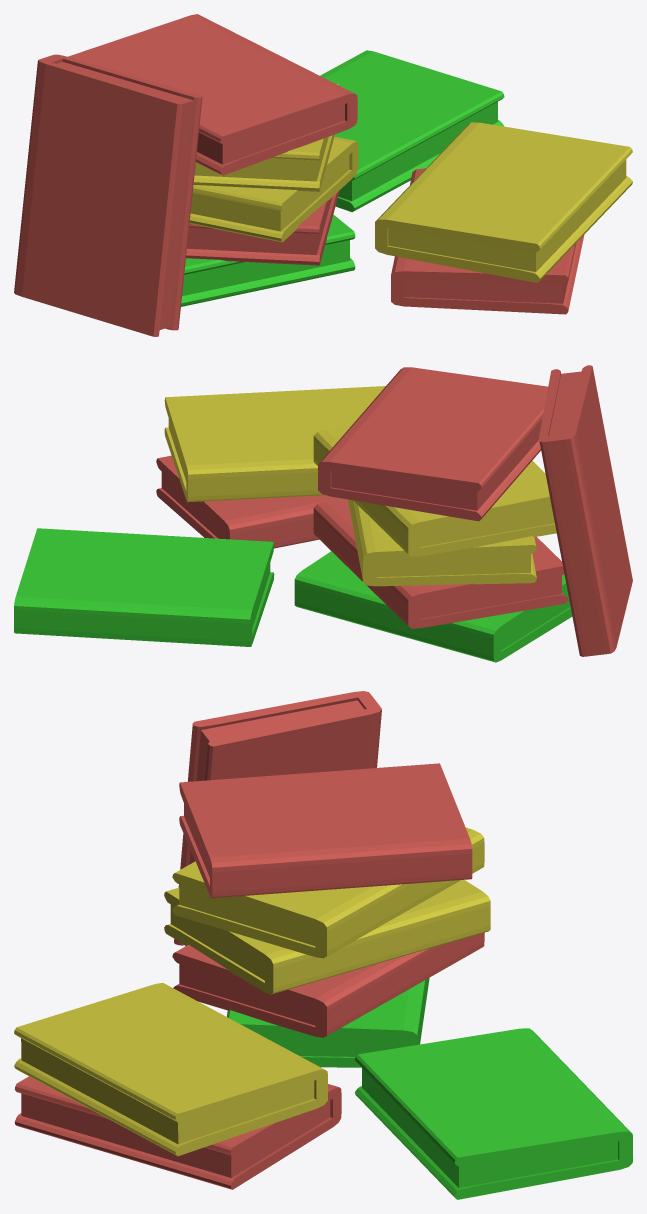
Rendered from PilaDeLibros01.fbx.
The picture shows the model from 3 angles, top to bottom: view 1: azimuth 30°, elevation 25°; view 2: azimuth 150°, elevation 25°; view 3: azimuth 270°, elevation 25°; orthographic projection. The views are drawn at different scales.
Parts seen in each view (by area): view 1: Pila01.009, Pila01.002, Pila01.008, Pila01.003, Pila01.001, Pila01.006, Pila01.004, Pila01.005, Pila01.007; view 2: Pila01.003, Pila01.008, Pila01.002, Pila01.009, Pila01.004, Pila01.005, Pila01.007, Pila01.006, Pila01.001; view 3: Pila01.002, Pila01.008, Pila01.003, Pila01.009, Pila01.006, Pila01.007, Pila01.001, Pila01.005, Pila01.004.
Boxes of the visible parts, bbox=[...] form: Pila01.009: bbox=[14, 54, 202, 336]; Pila01.002: bbox=[375, 122, 632, 282]; Pila01.008: bbox=[68, 14, 357, 175]; Pila01.003: bbox=[320, 50, 504, 212]; Pila01.001: bbox=[391, 168, 584, 314]; Pila01.006: bbox=[189, 136, 358, 242]; Pila01.004: bbox=[181, 214, 355, 306]; Pila01.005: bbox=[186, 190, 339, 265]; Pila01.007: bbox=[193, 84, 339, 191]; Pila01.003: bbox=[14, 528, 274, 646]; Pila01.008: bbox=[318, 367, 547, 521]; Pila01.002: bbox=[164, 386, 385, 502]; Pila01.009: bbox=[539, 365, 632, 656]; Pila01.004: bbox=[294, 551, 572, 662]; Pila01.005: bbox=[313, 498, 568, 628]; Pila01.007: bbox=[313, 424, 556, 556]; Pila01.006: bbox=[348, 499, 536, 586]; Pila01.001: bbox=[156, 455, 340, 548]; Pila01.002: bbox=[14, 983, 327, 1156]; Pila01.008: bbox=[179, 763, 472, 898]; Pila01.003: bbox=[355, 1028, 632, 1199]; Pila01.009: bbox=[174, 691, 381, 946]; Pila01.006: bbox=[164, 880, 490, 994]; Pila01.007: bbox=[172, 827, 484, 958]; Pila01.001: bbox=[14, 1076, 341, 1189]; Pila01.005: bbox=[172, 932, 484, 1037]; Pila01.004: bbox=[227, 977, 429, 1067].
Bounding box in the file's own units: 286 × 114 × 264.
